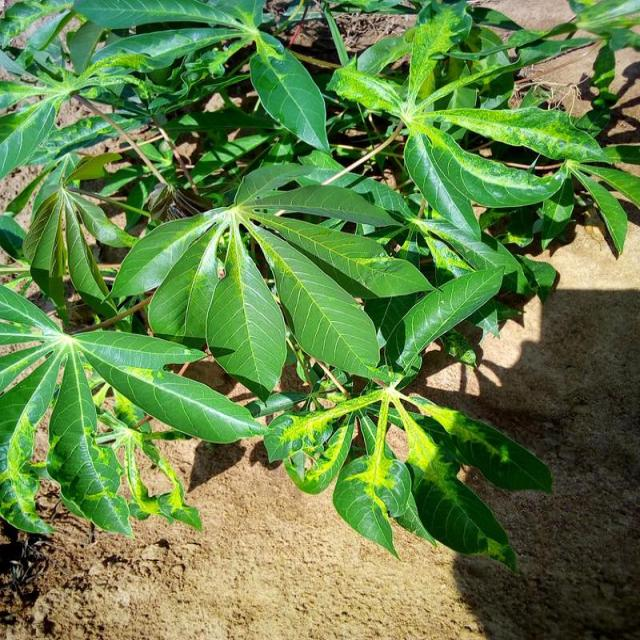cassava leaf: (1, 1, 637, 573)
